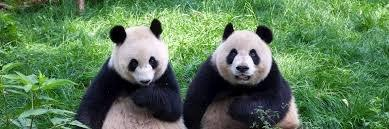bear: (184, 23, 301, 129), (77, 18, 188, 129)
